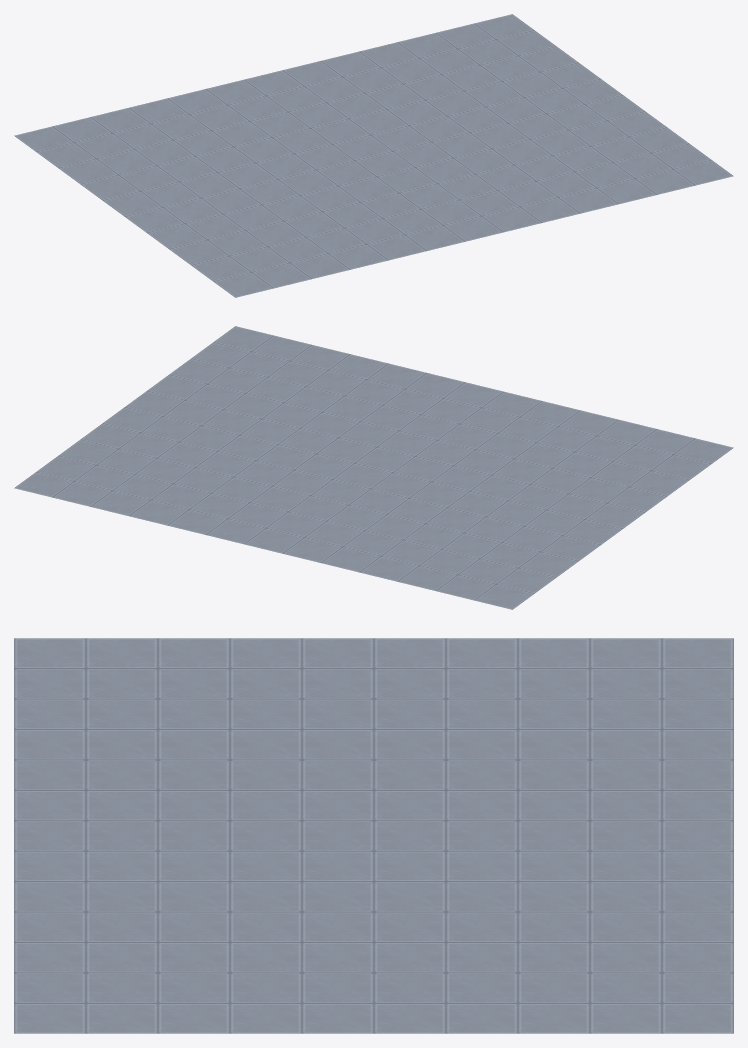
Rendered from warehouse-floor.glb.
3 renders of one model, top to bottom at view 1: azimuth 30°, elevation 25°; view 2: azimuth 150°, elevation 25°; view 3: azimuth 270°, elevation 25°, orthographic. The views are drawn at different scales.
Visible parts, largest first — view 1: floor; view 2: floor; view 3: floor.
Boxes of the visible parts, box(x1,y1,x2,y2) form: floor: box(14, 14, 733, 297); floor: box(14, 326, 733, 609); floor: box(14, 638, 733, 1033).
Bounding box in the file's own units: 13 × 0 × 10.
1 material, 1 textured.
